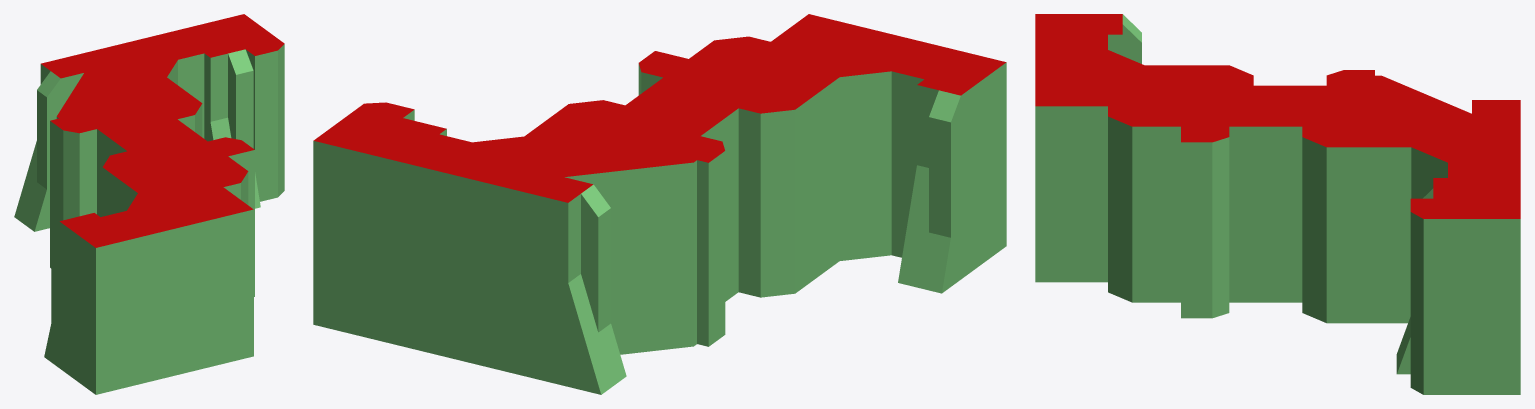
The model's file is x_oo_ground_38_1_rmstrd.fbx.
3 views of the same model, side by side, from view 1: azimuth 30°, elevation 25°; view 2: azimuth 150°, elevation 25°; view 3: azimuth 270°, elevation 25° (orthographic). The views are drawn at different scales.
Parts seen in each view (by area): view 1: x_oo_ground_38_1_rmstrd1; view 2: x_oo_ground_38_1_rmstrd1; view 3: x_oo_ground_38_1_rmstrd1.
Part boxes in pixels (x1,y1,x2,y2): x_oo_ground_38_1_rmstrd1: [14, 14, 284, 394]; x_oo_ground_38_1_rmstrd1: [313, 14, 1006, 394]; x_oo_ground_38_1_rmstrd1: [1035, 14, 1520, 394].
Size of the model in its own units: 10 by 4 by 10.
